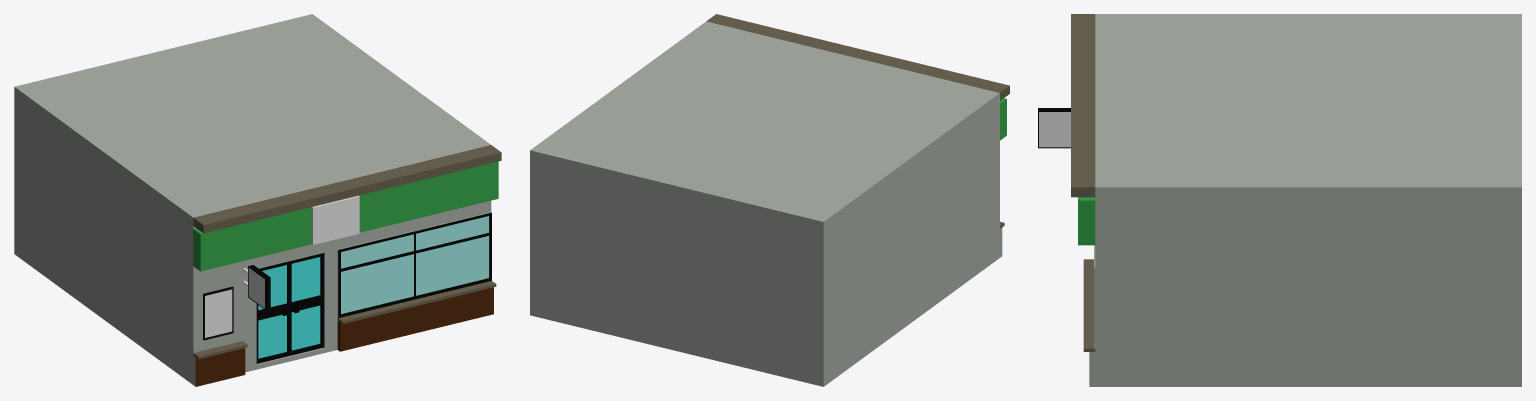
Rendered from 7ELEVEN.fbx.
3 renders of one model, left to right at view 1: azimuth 30°, elevation 25°; view 2: azimuth 150°, elevation 25°; view 3: azimuth 270°, elevation 25°, orthographic. The views are drawn at different scales.
Visible parts, largest first — view 1: Cube, Cube.002, Cube.001, Cube.006; view 2: Cube; view 3: Cube, Cube.006.
Part boxes in pixels (x1,y1,x2,y2): Cube: (14, 14, 501, 386); Cube.002: (256, 253, 323, 363); Cube.001: (203, 286, 233, 340); Cube.006: (248, 265, 270, 309); Cube: (530, 14, 1009, 386); Cube: (1071, 14, 1521, 386); Cube.006: (1038, 108, 1070, 148).
Size of the model in its own units: 1998 by 1072 by 2355.
